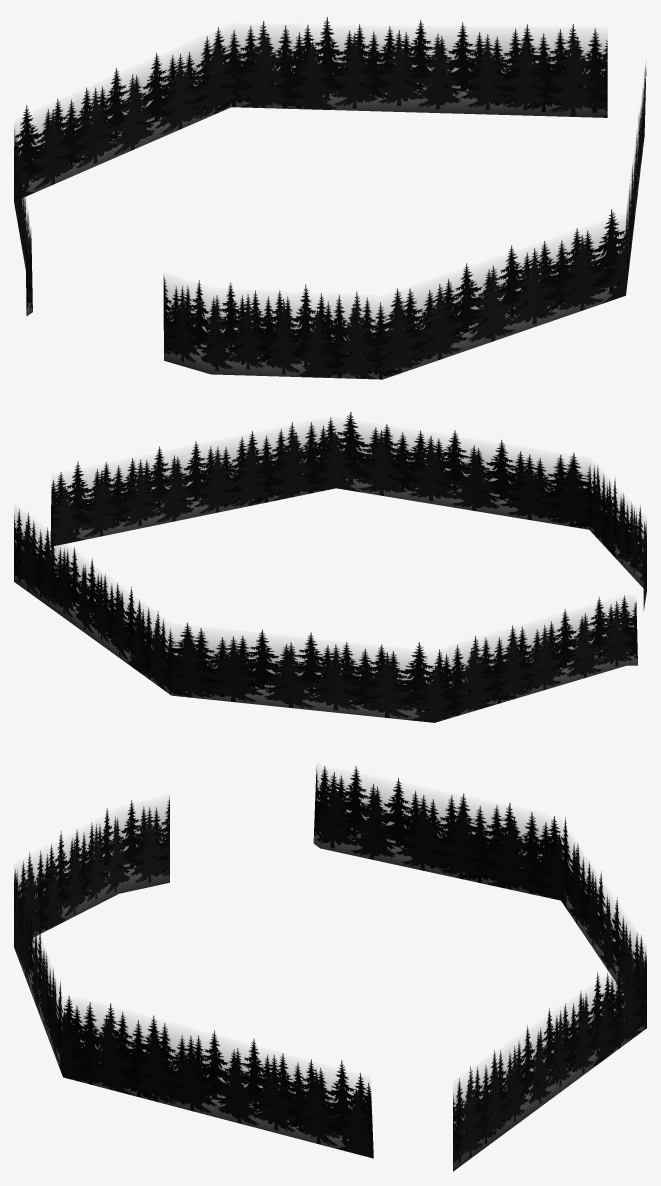
Rendered from starting_zone_4.glb.
The picture shows the model from 3 angles, top to bottom: view 1: azimuth 30°, elevation 25°; view 2: azimuth 150°, elevation 25°; view 3: azimuth 270°, elevation 25°; orthographic projection. The views are drawn at different scales.
Visible parts, largest first — view 1: Plane.012, Plane.006; view 2: Plane.012, Plane.006; view 3: Plane.012, Plane.006.
Boxes of the visible parts, <box> form: Plane.012: <box>14,17,607,315</box>; Plane.006: <box>163,65,646,379</box>; Plane.012: <box>14,508,637,722</box>; Plane.006: <box>50,412,646,610</box>; Plane.012: <box>313,766,646,1171</box>; Plane.006: <box>14,796,373,1158</box>.
Bounding box in the file's own units: 163 × 25.09 × 138.
Materials: 2 (2 with a texture image).
